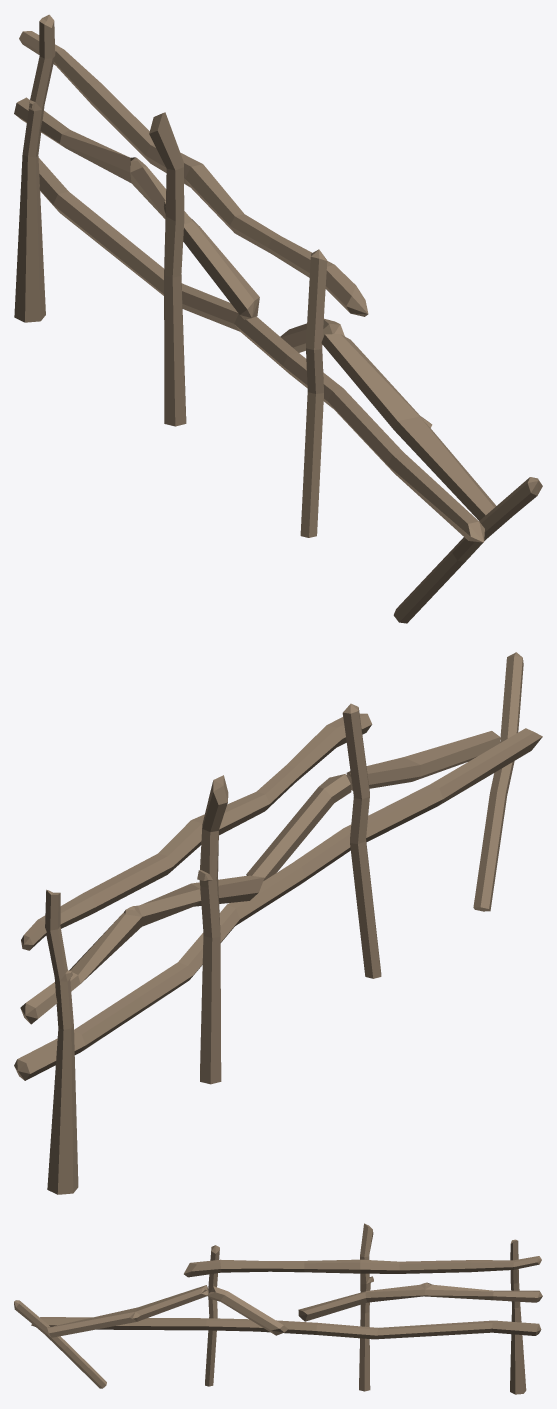
Rendered from SM_Prop_Makeshift_Fence_02.fbx.
3 renders of one model, top to bottom at view 1: azimuth 30°, elevation 25°; view 2: azimuth 150°, elevation 25°; view 3: azimuth 270°, elevation 25°, orthographic. The views are drawn at different scales.
Parts seen in each view (by area): view 1: SM_Prop_Makeshift_Fence_02; view 2: SM_Prop_Makeshift_Fence_02; view 3: SM_Prop_Makeshift_Fence_02.
Part boxes in pixels (bbox=[...]): SM_Prop_Makeshift_Fence_02: bbox=[14, 14, 542, 623]; SM_Prop_Makeshift_Fence_02: bbox=[14, 652, 542, 1194]; SM_Prop_Makeshift_Fence_02: bbox=[14, 1223, 542, 1394].
Bounding box in the file's own units: 60.98 × 242 × 692.
